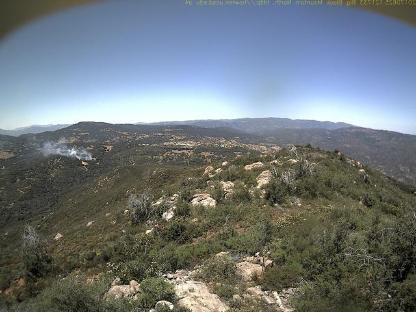smoke: (40, 136, 95, 164)
